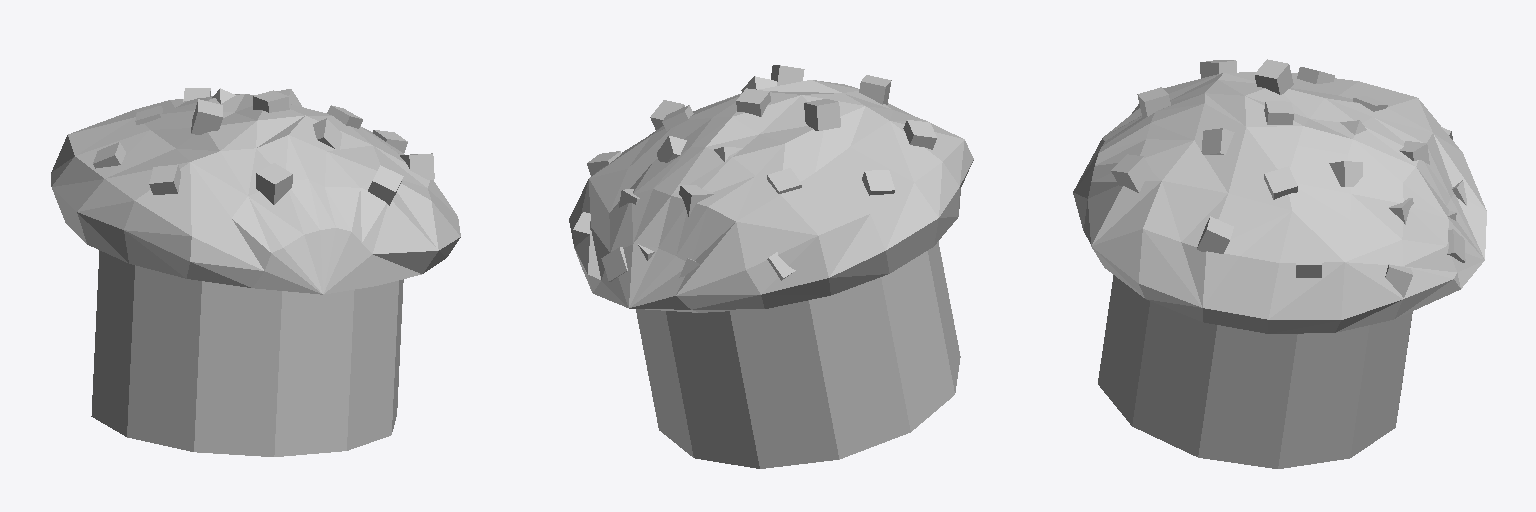
Rendered from cupcake.obj.
The picture shows the model from 3 angles: view 1: azimuth 30°, elevation 25°; view 2: azimuth 150°, elevation 25°; view 3: azimuth 270°, elevation 25°; orthographic projection.
Parts seen in each view (by area): view 1: group[number redacted]; view 2: group[number redacted]; view 3: group[number redacted].
Part boxes in pixels (bbox=[...]): group[number redacted]: bbox=[51, 88, 460, 456]; group[number redacted]: bbox=[569, 65, 973, 468]; group[number redacted]: bbox=[1073, 59, 1486, 468].
Size of the model in its own units: 0.1546 by 0.1405 by 0.1584.